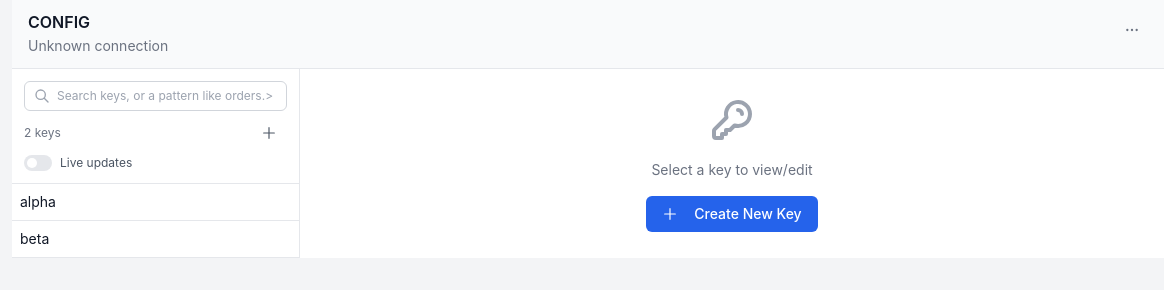
Scenario: KVStorePage › keeps a wildcard that is not a whole token off the server and says how to write it
In the field with placeholder "Search keys, or a pattern like orders.>": (156, 96) [24, 81, 287, 111], type "ord*"
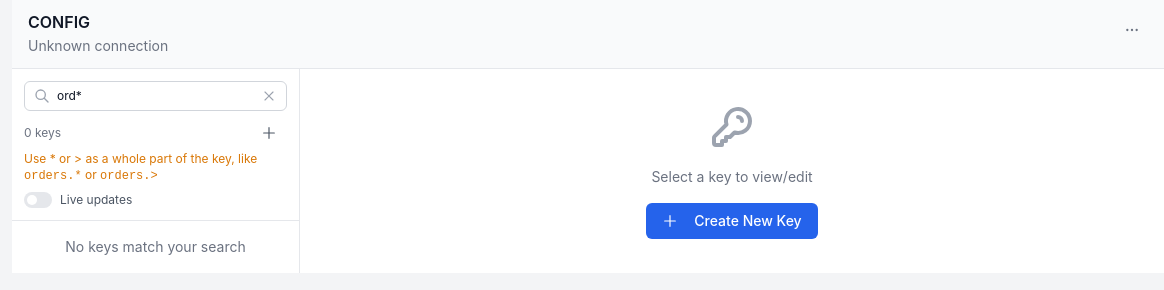
Expected: the text "whole part of the key" is shown, [24, 151, 257, 166]
